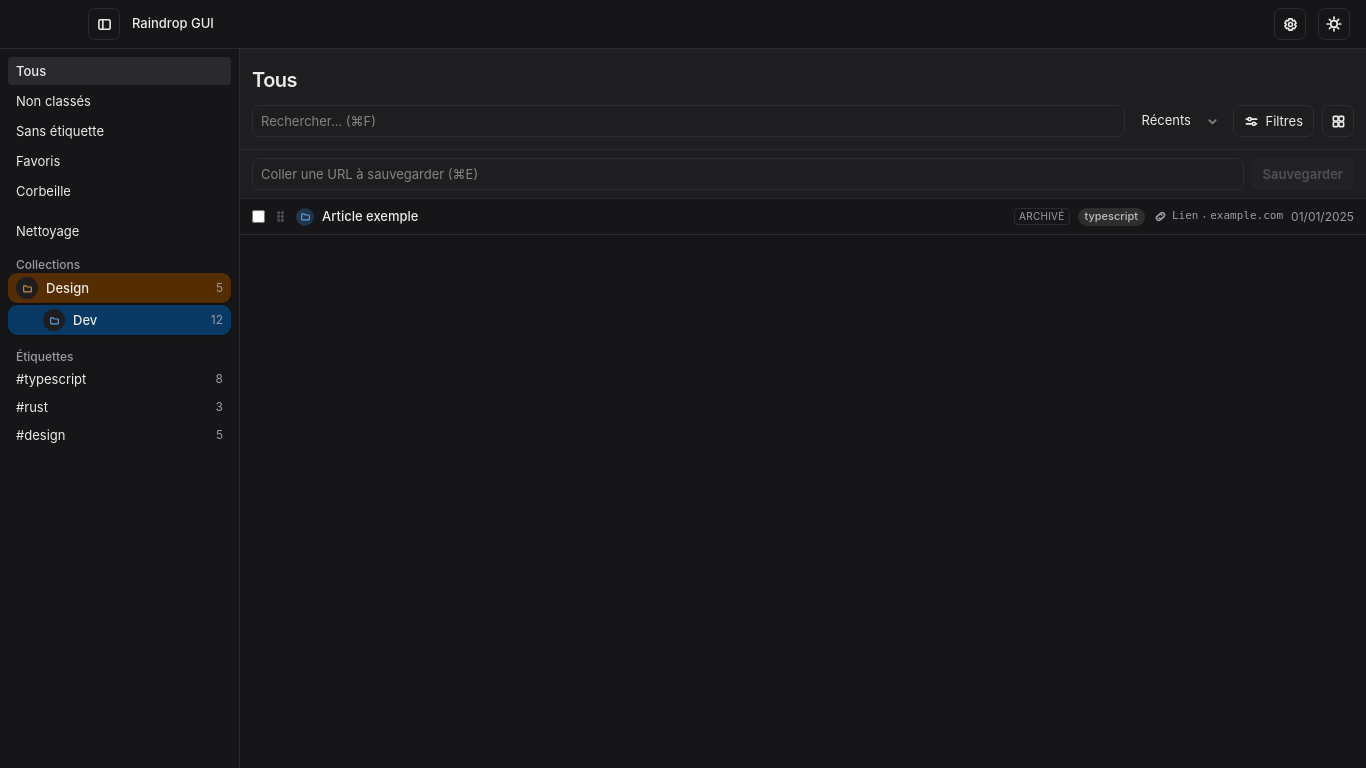
App › clic sur une ligne archivée : lecture ouverte ET fiche toujours là
The width and height of the screenshot is (1366, 768).
Click the element with test id "row-1000" at x=803, y=217, box [240,199,1365,235]
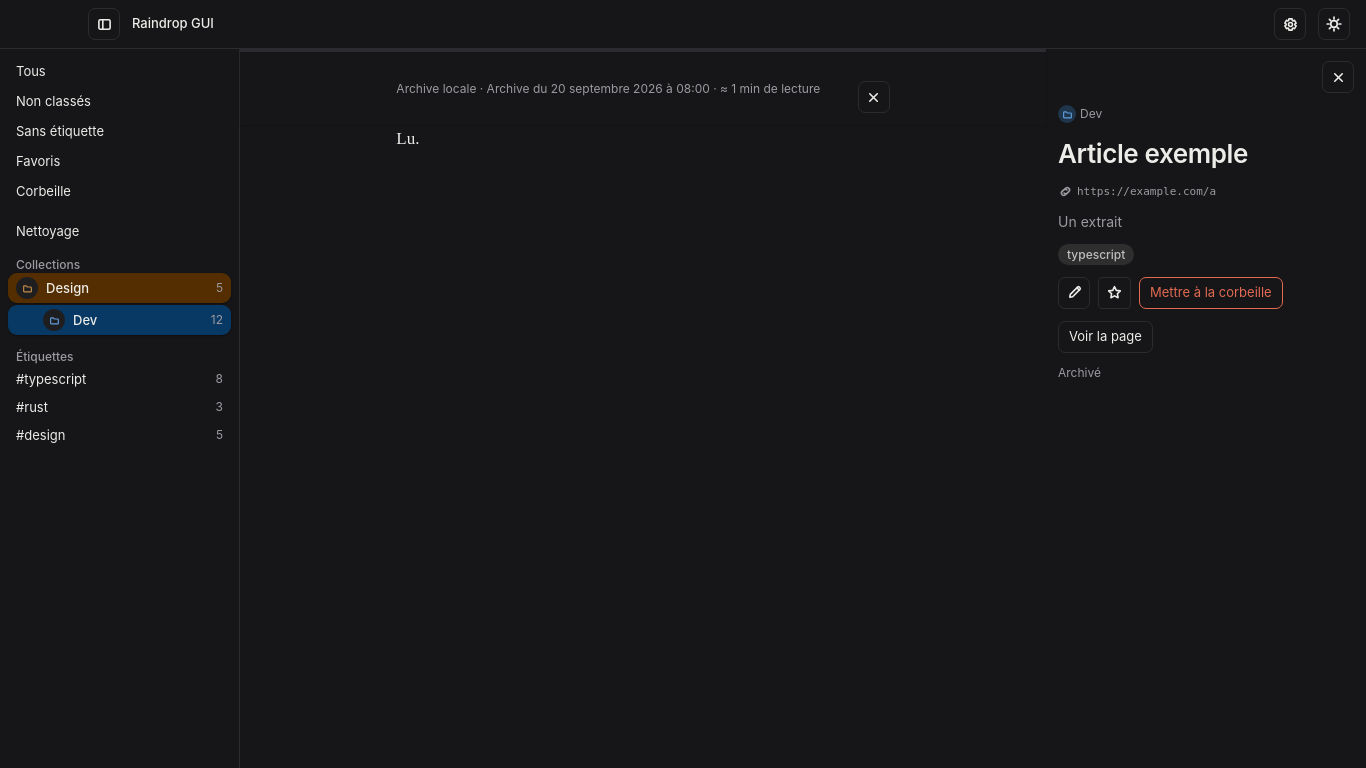
Check: the button named "Fermer la lecture" is shown, box [858,81,890,113]
Check: the button named "Fermer le détail" is shown, box [1322,61,1354,93]
